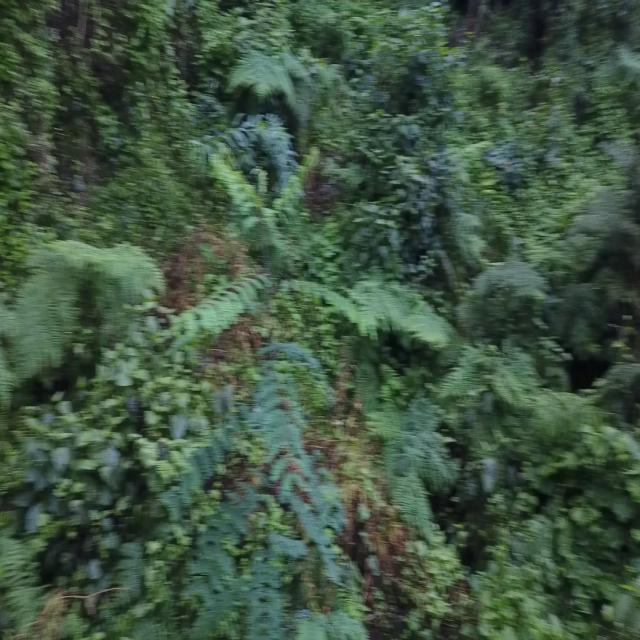Mysore-Thorn-Weed: (166, 157, 445, 360), (199, 341, 341, 640)
